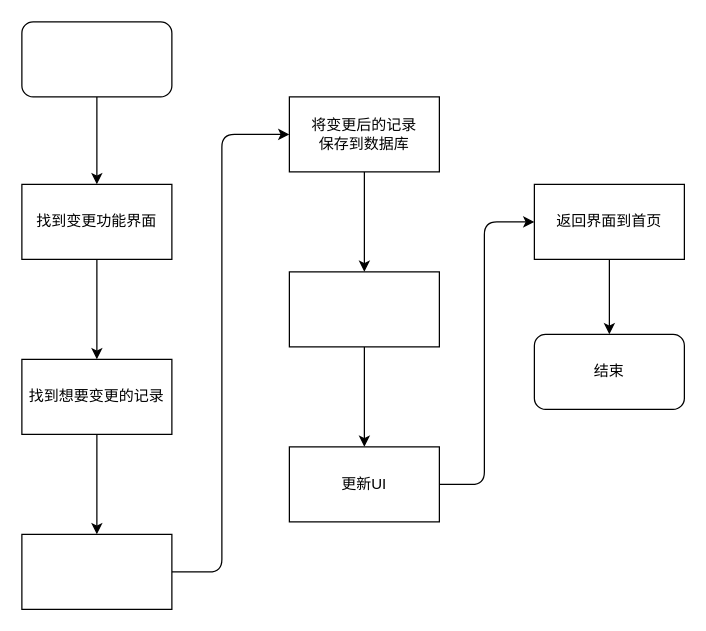
This 706x631 diagram has some shape labels left out. The centre of each missing label's shape, as x and y in pixels:
"保存变更记录的ID 用以后续同步" goes at (x=363, y=309).
"开始" goes at (x=96, y=59).
"执行变更" goes at (x=96, y=571).
